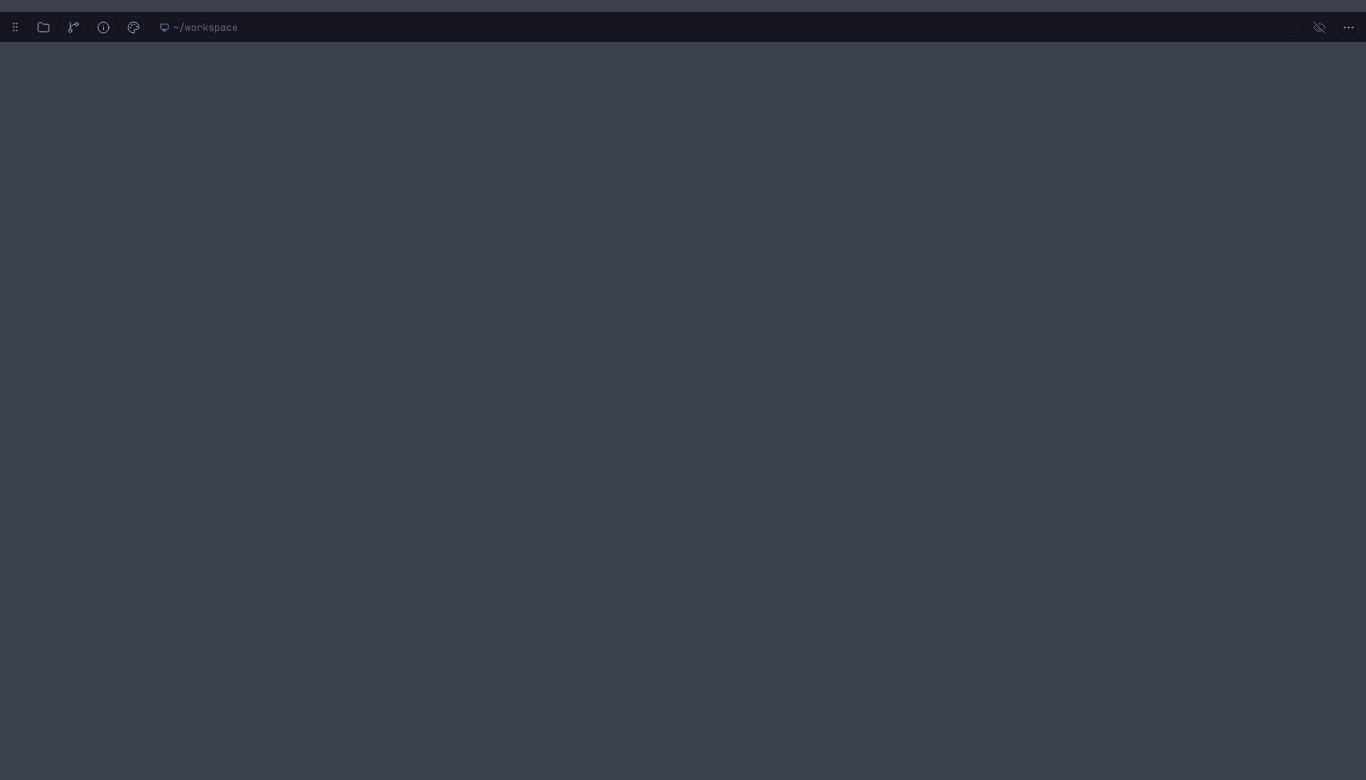
it: TerminalHeader › Info panel — pane identity and cwd › shows workspace-relative cwd when non-empty
This screenshot has width=1366, height=780.
Click the button titled "Info": (103, 27) [89, 13, 117, 41]
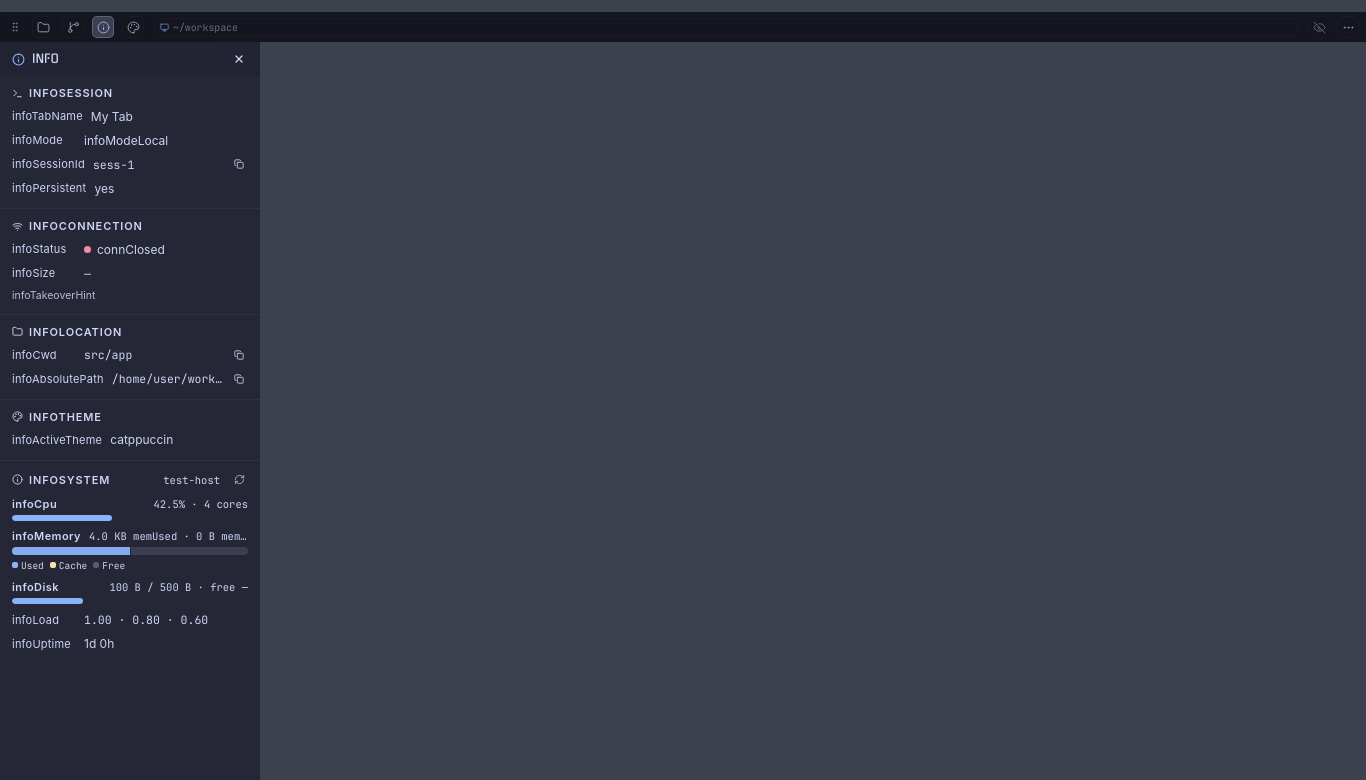
Expected: the text "src/app" is shown, [84, 347, 132, 362]
